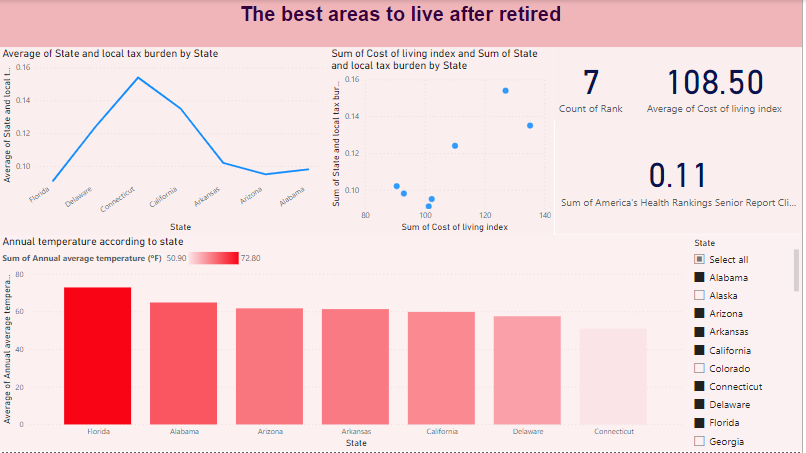

The dashboard page shown, as its layout file describes it:
{"tool":"powerbi","page":{"name":"Page 1","canvas":[1280,720],"ordinal":0},"visuals":[{"type":"clusteredColumnChart","title":"Annual temperature according to state","fields":{"Y":["Avg(Table 1.Annual average temperature (ºF))"],"Category":["Table 1.State"]},"box":[0,375,1095,345],"z":0},{"type":"slicer","fields":{"Values":["Table 1.State"]},"box":[1094.6,374.9,185.4,344.7],"z":1000},{"type":"lineChart","fields":{"Category":["Table 1.State"],"Y":["Avg(Table 1.State and local tax burden)"]},"box":[0,75,525,300],"z":2000},{"type":"card","fields":{"Values":["CountNonNull(Table 1.Rank)"]},"box":[885,75,116.7,118.3],"z":3000},{"type":"card","fields":{"Values":["Sum(Table 1.America's Health Rankings Senior Report Clinical Care Score)"]},"box":[885.7,192.9,394.3,181.4],"z":4000},{"type":"card","fields":{"Values":["Avg(Table 1.Cost of living index)"]},"box":[1001.7,75,278.3,118.3],"z":5000},{"type":"scatterChart","fields":{"X":["Sum(Table 1.Cost of living index)"],"Y":["Sum(Table 1.State and local tax burden)"],"Category":["Table 1.State"]},"box":[525,75,360,300],"z":5001},{"type":"textbox","box":[0,0,1280,75],"z":5002}]}

Visuals, with their boxes in screenshot pixels (x1, y1, x2, y2), scaled from the page's 1280x720 canvas onto the 806x453 screenshot:
"Annual temperature according to state" clusteredColumnChart: bbox=[0, 236, 690, 452]
slicer - Table 1.State: bbox=[689, 236, 805, 452]
lineChart - Table 1.State x Avg(Table 1.State and local tax burden): bbox=[0, 47, 331, 236]
card - CountNonNull(Table 1.Rank): bbox=[557, 47, 631, 122]
card - Sum(Table 1.America's Health Rankings Senior Report Clinical Care Score): bbox=[558, 121, 805, 235]
card - Avg(Table 1.Cost of living index): bbox=[631, 47, 805, 122]
scatterChart - Sum(Table 1.Cost of living index) x Sum(Table 1.State and local tax burden): bbox=[331, 47, 557, 236]
textbox: bbox=[0, 0, 805, 47]
